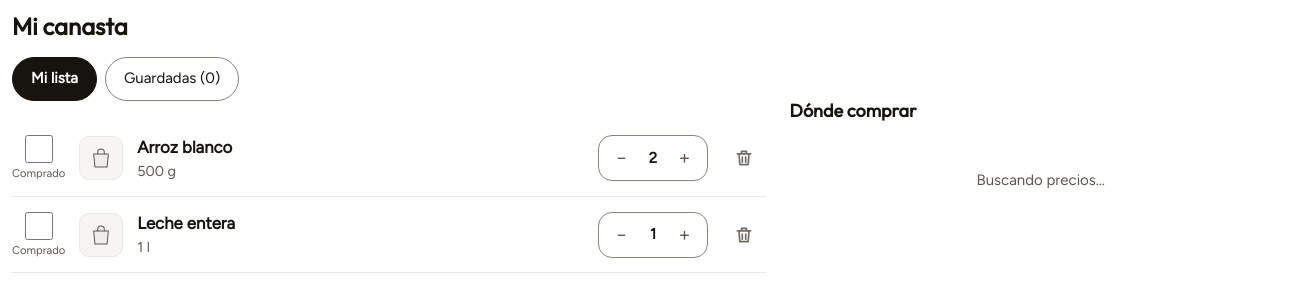
Test: mi canasta › la papelera quita el producto de una vez
Click the button named "Quitar Arroz blanco de la canasta": (744, 158) [722, 136, 766, 180]
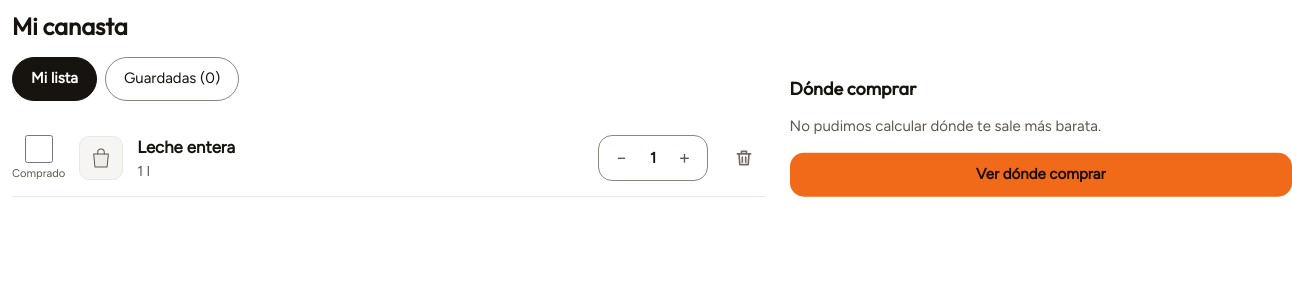
Expected: the text "Leche entera" is shown, [137, 137, 235, 157]
Expected: the link "Arroz blanco" is gone
